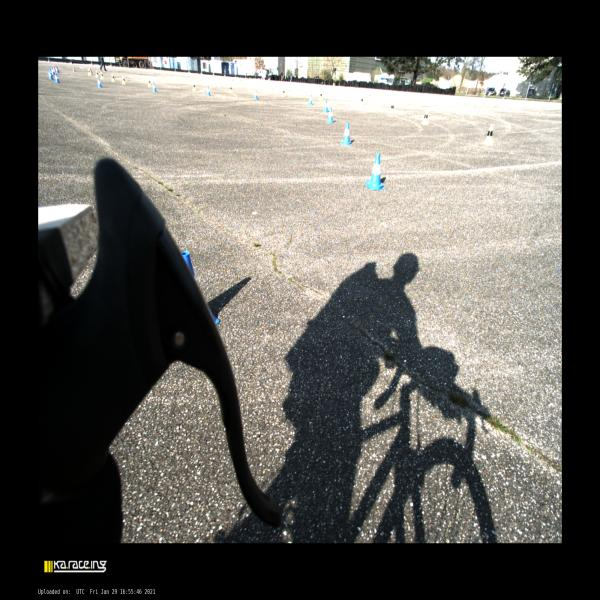blue_cone: (180, 252, 220, 326), (365, 153, 385, 190), (340, 122, 352, 146), (326, 107, 334, 123), (322, 99, 328, 113), (252, 89, 258, 100), (151, 82, 157, 92), (97, 78, 102, 88), (206, 86, 210, 96), (55, 74, 60, 82), (49, 70, 53, 80), (308, 94, 312, 104), (49, 69, 52, 76), (56, 67, 59, 72)
orange_cone: (52, 66, 56, 72), (73, 66, 76, 72)
yellow_cone: (480, 124, 493, 146), (421, 110, 430, 125), (111, 73, 116, 82), (122, 76, 127, 84), (390, 104, 394, 113), (192, 84, 197, 90), (100, 72, 104, 79), (148, 80, 152, 87), (88, 69, 92, 75), (282, 90, 285, 97), (320, 94, 323, 100), (230, 86, 232, 93), (96, 71, 98, 78)
